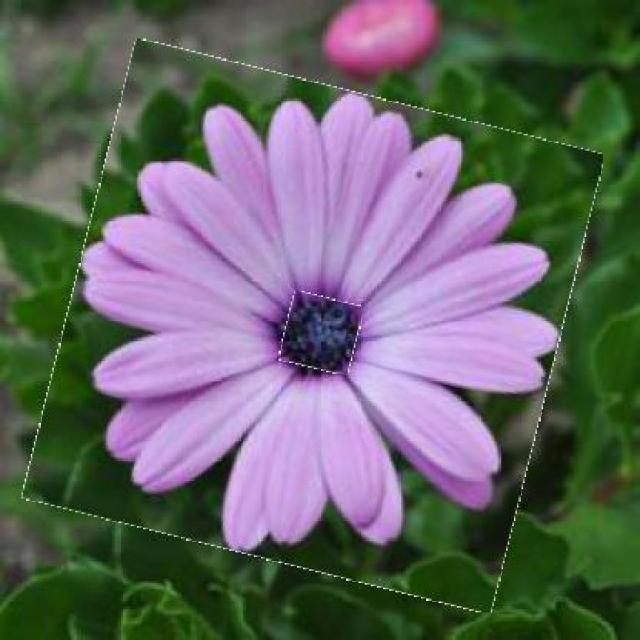Flower: (47, 64, 581, 588), (283, 296, 360, 373)
